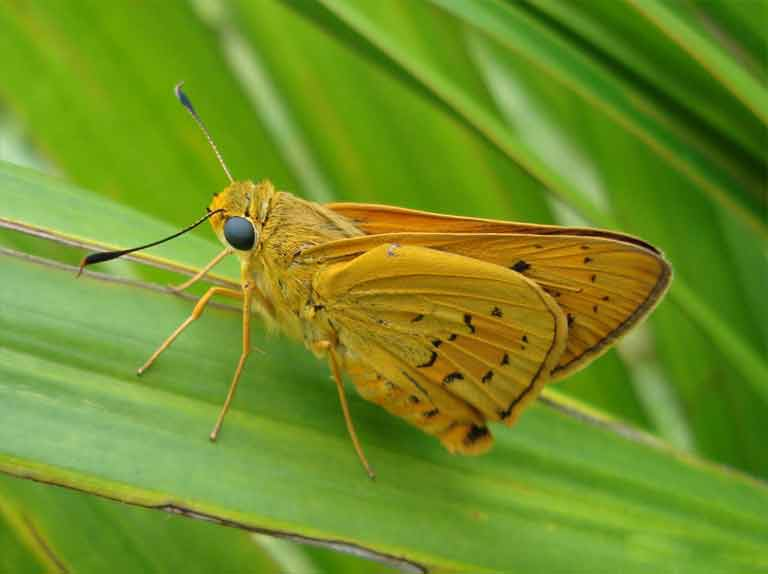Rice_skipper: (169, 171, 678, 462)
